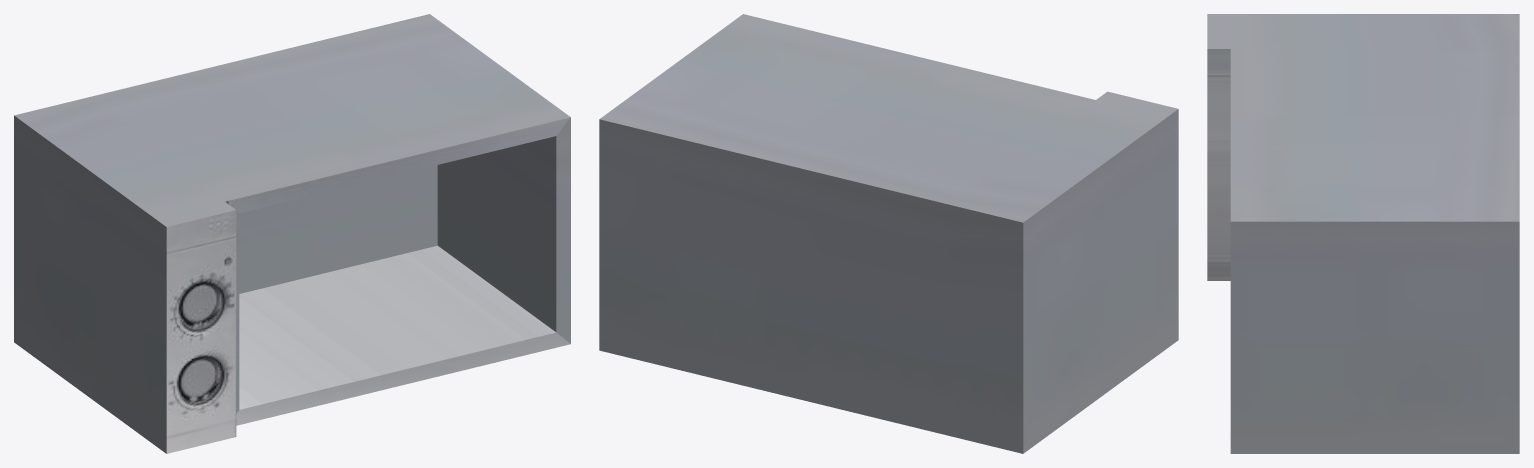
The model's file is Microwave_01.glb.
The picture shows the model from 3 angles, left to right: view 1: azimuth 30°, elevation 25°; view 2: azimuth 150°, elevation 25°; view 3: azimuth 270°, elevation 25°; orthographic projection. The views are drawn at different scales.
Visible parts, largest first — view 1: Microwave_01; view 2: Microwave_01; view 3: Microwave_01.
Boxes of the visible parts, x1=… form: Microwave_01: x1=14, y1=14, x2=570, y2=453; Microwave_01: x1=599, y1=14, x2=1178, y2=453; Microwave_01: x1=1207, y1=14, x2=1519, y2=453.
Bounding box in the file's own units: 0.6887 × 0.3591 × 0.4376.
Materials: 1 (1 with a texture image).
